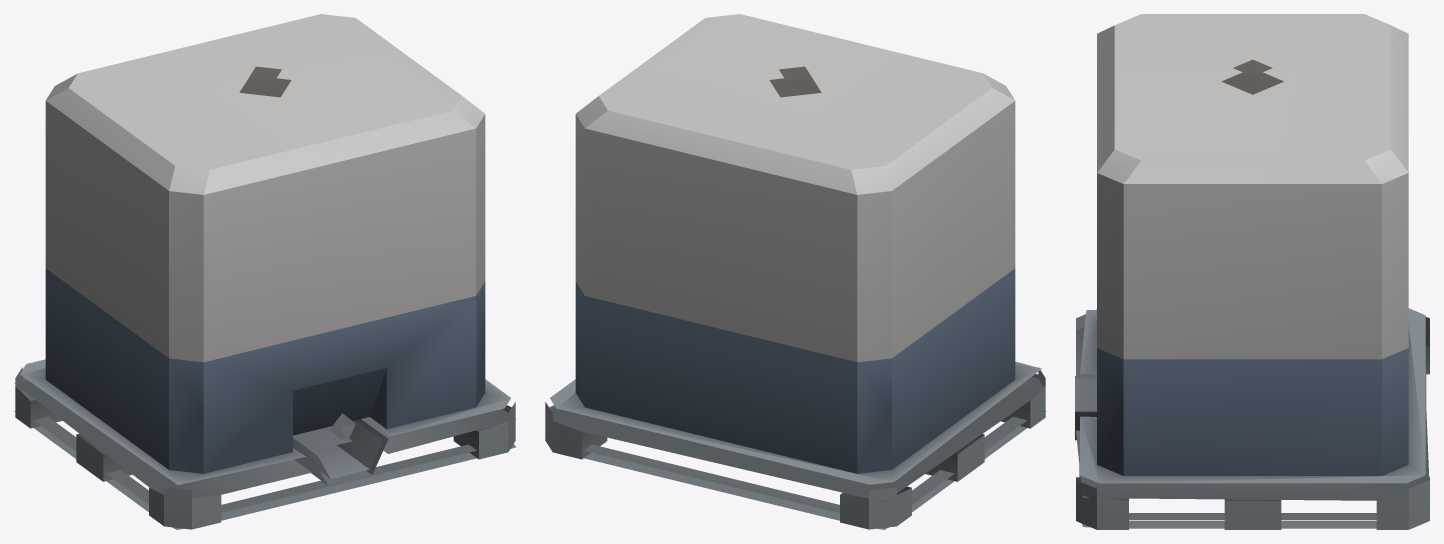
The model's file is ibc.lod.glb.
3 renders of one model, left to right at view 1: azimuth 30°, elevation 25°; view 2: azimuth 150°, elevation 25°; view 3: azimuth 270°, elevation 25°, orthographic. The views are drawn at different scales.
Visible parts, largest first — view 1: ibc; view 2: ibc; view 3: ibc.
Boxes of the visible parts, x1,y1,x2,y2 form: ibc: (14,14,516,529); ibc: (545,14,1046,529); ibc: (1075,14,1429,529).
Size of the model in its own units: 1.2 by 1.16 by 1.
